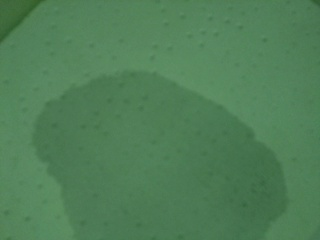Water_detected: (64, 89, 227, 238)
